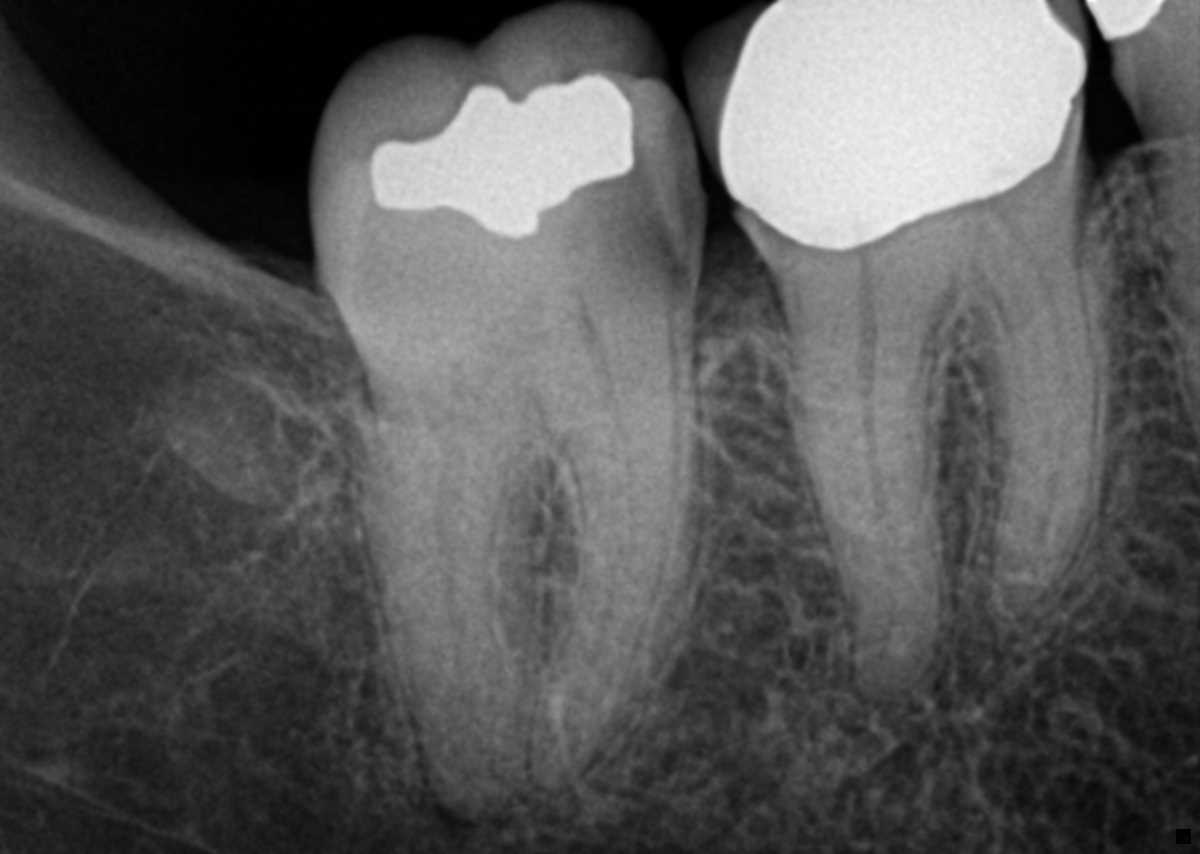Distal Canal: (856, 319, 897, 628), (437, 394, 477, 679)
Distal Root: (368, 383, 551, 817), (792, 307, 951, 692)
Main Root: (1147, 117, 1200, 417)
Mesial Canal: (1032, 257, 1071, 541), (596, 372, 637, 629)
Mesial Root: (533, 332, 704, 784), (979, 242, 1096, 615)
decay: (581, 137, 688, 293), (740, 211, 806, 263)
